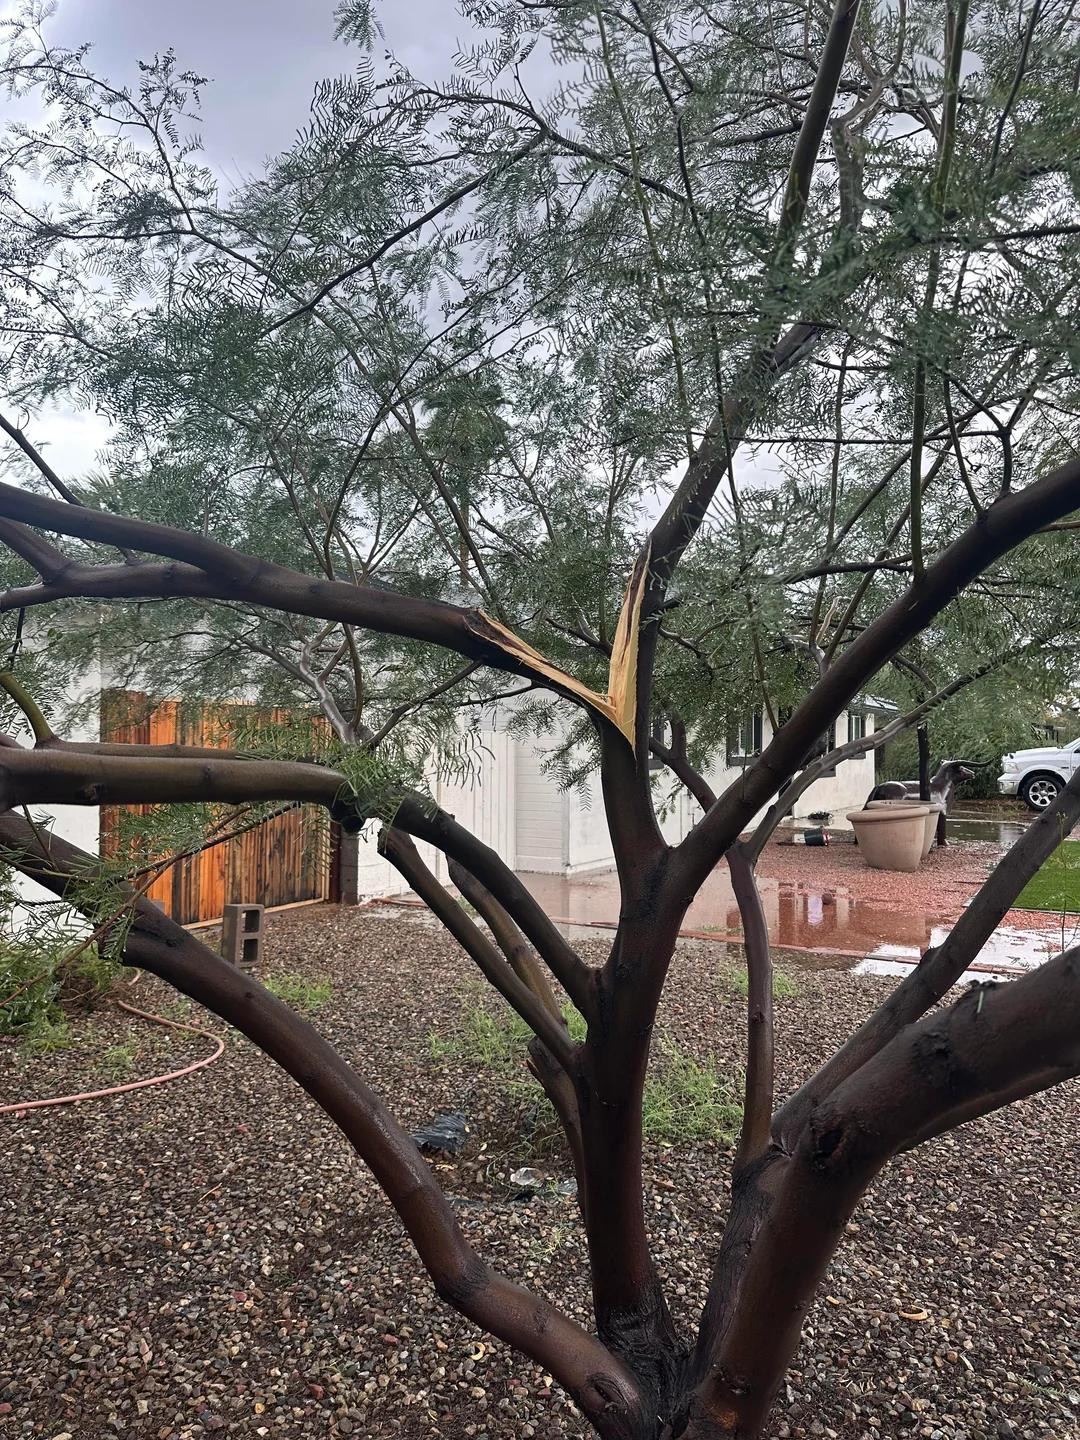mechanical damage: (466, 610, 628, 742), (608, 548, 648, 745)
